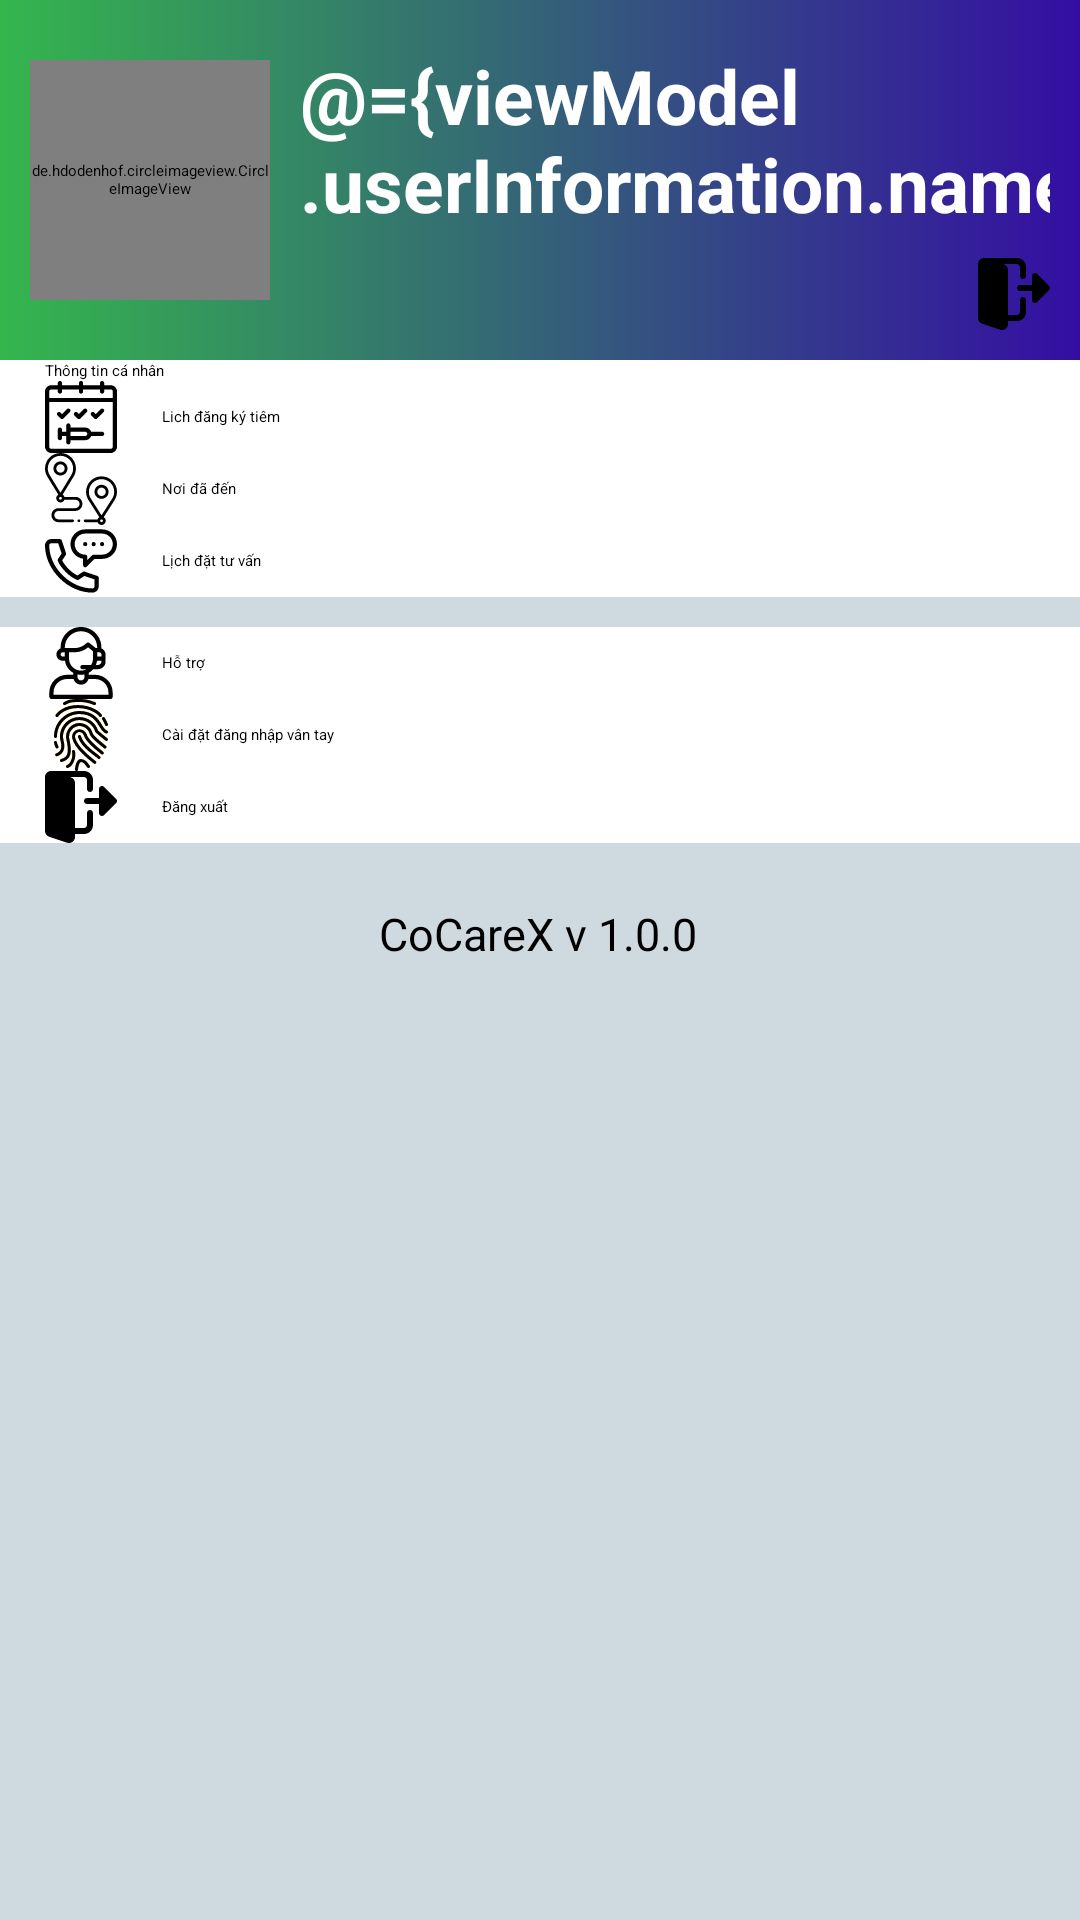

Icons on this 1080 x 1920 Android screen, each with its box as (x1,y1,x2,y2):
log out: (978,258,1050,330)
